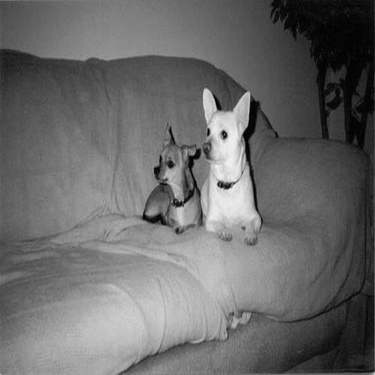dog: (183, 85, 266, 250), (135, 115, 208, 246)
